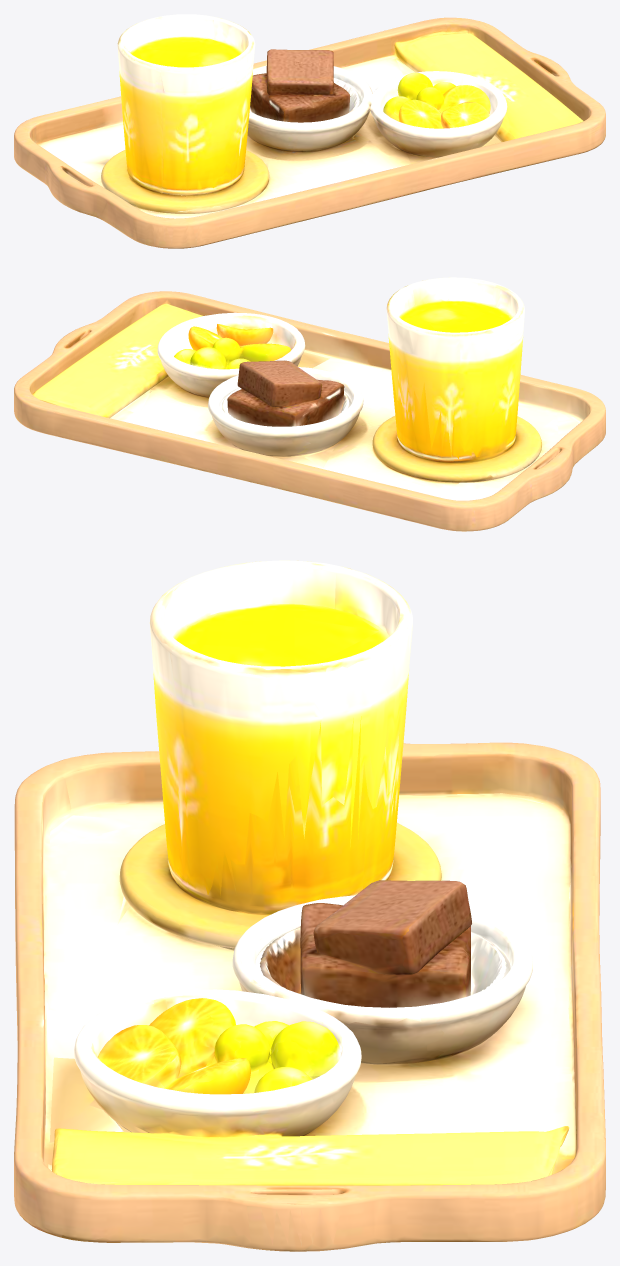
File: zumo-frutas-pastel.glb
3 renders of one model, top to bottom at view 1: azimuth 30°, elevation 25°; view 2: azimuth 150°, elevation 25°; view 3: azimuth 270°, elevation 25°, orthographic. The views are drawn at different scales.
Visible parts, largest first — view 1: node_0.004; view 2: node_0.004; view 3: node_0.004.
Part boxes in pixels (box(x1,y1,x2,y2)): node_0.004: box(14, 14, 605, 248); node_0.004: box(14, 277, 605, 531); node_0.004: box(14, 560, 605, 1251).
Size of the model in its own units: 0.6228 by 0.173 by 0.332.
1 material, 1 textured.
